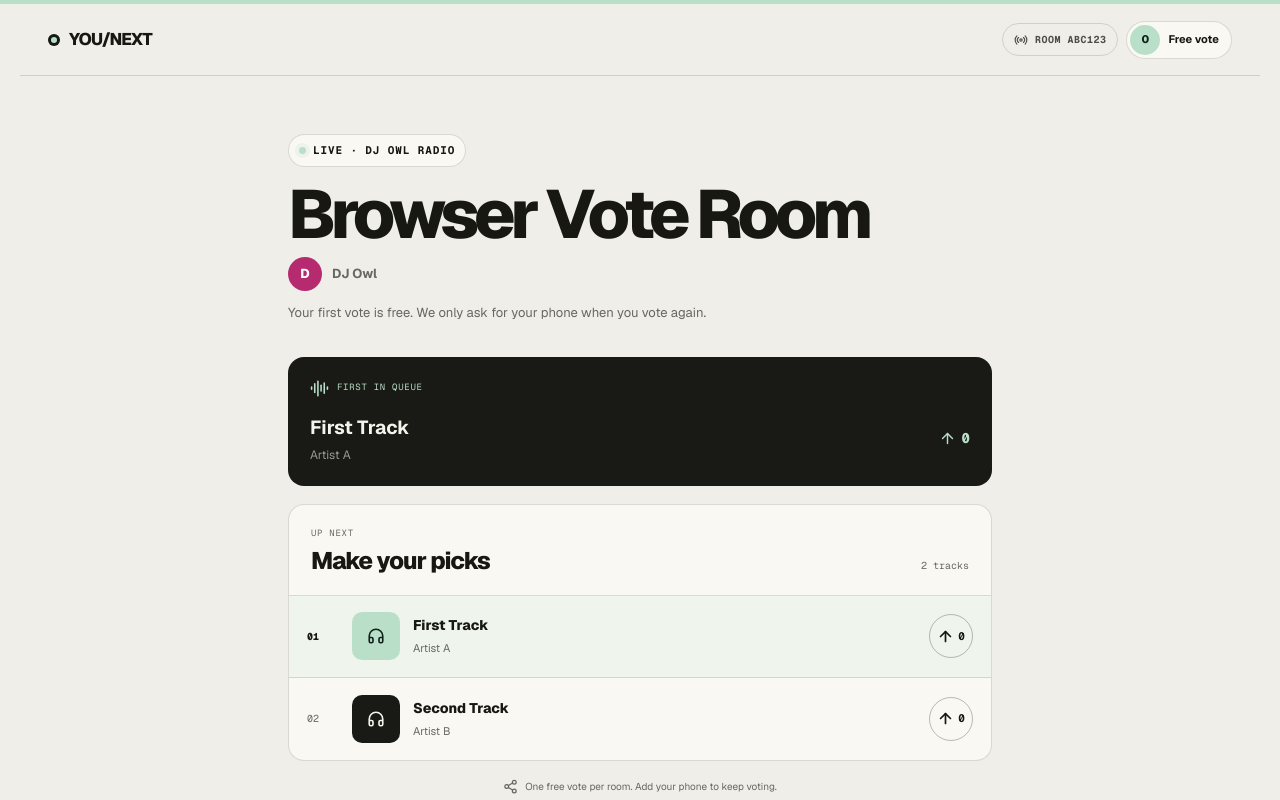
identity onboarding › allows one free vote, then logs in before applying the next vote
This screenshot has width=1280, height=800.
Check: the heading "Browser Vote Room" is shown, box [288,182,868,245]
Check: the text "Room ABC123" is shown, box [1002,23,1118,56]
Click the button named "vote for first track, 0 votes": (951, 636) [929,614,973,658]
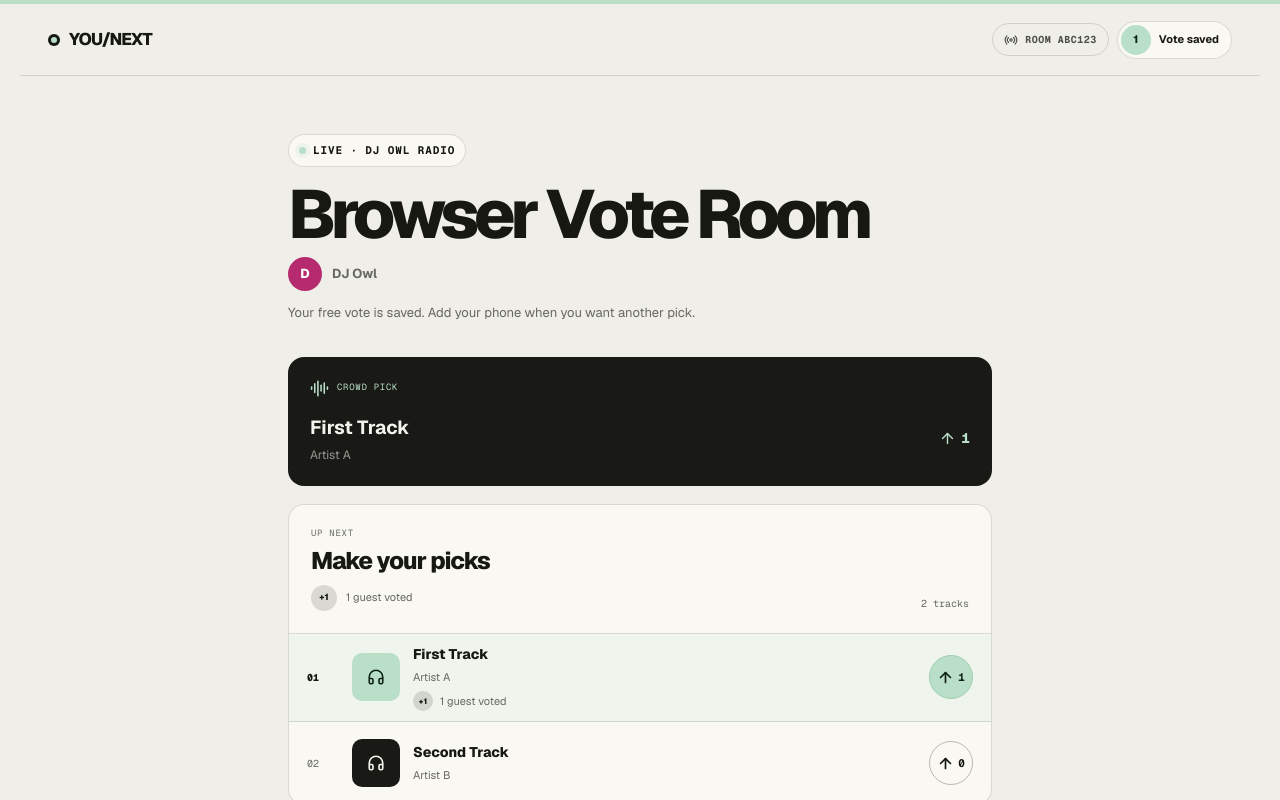
Check: the text "Vote saved" is shown, box [1159,31,1228,48]
Check: the button named "vote saved for first track" is disabled, box [929,656,973,700]
Click the button named "vote for second track, 0 votes": (951, 763) [929,741,973,785]
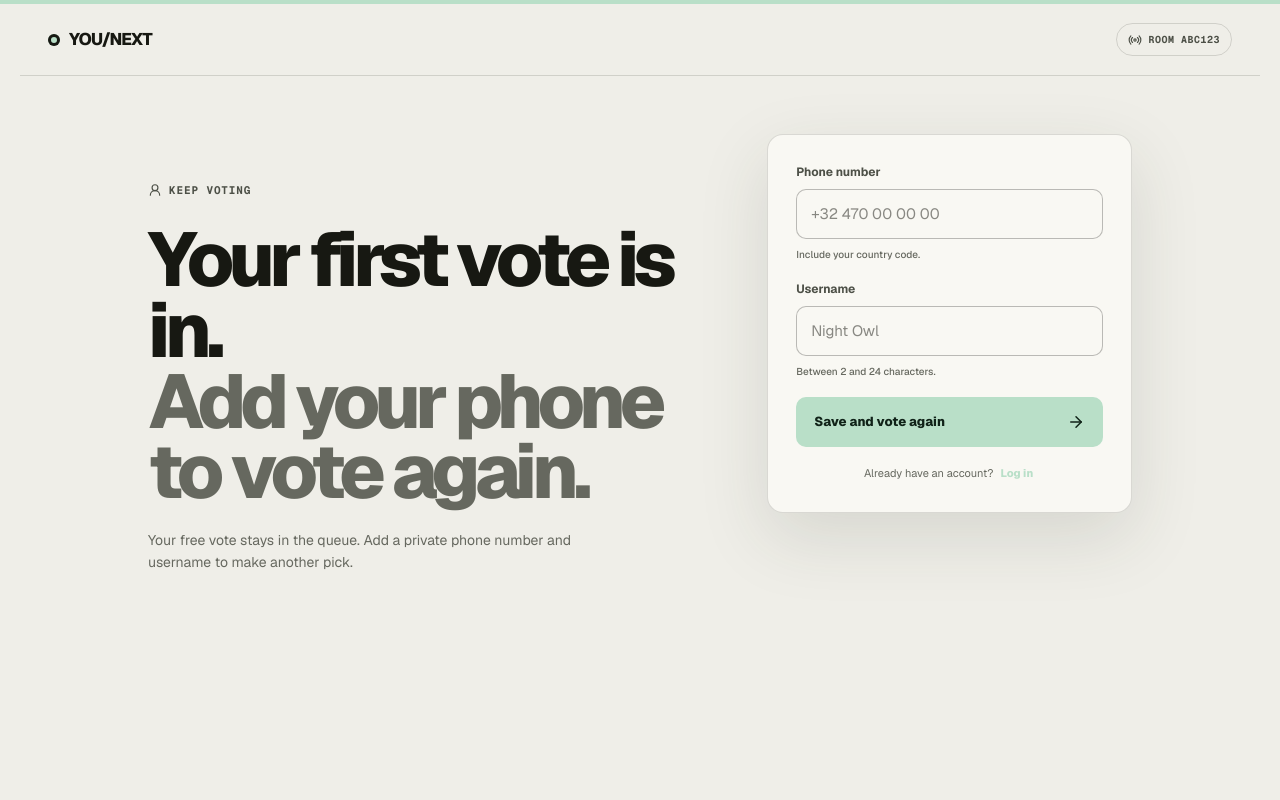
Check: the heading "Your first vote is in." is shown, box [148,210,672,379]
Check: the text "Add your phone to vote again." is shown, box [148,366,695,507]
Click the button "Log in": (1017, 473) [998,463,1035,484]
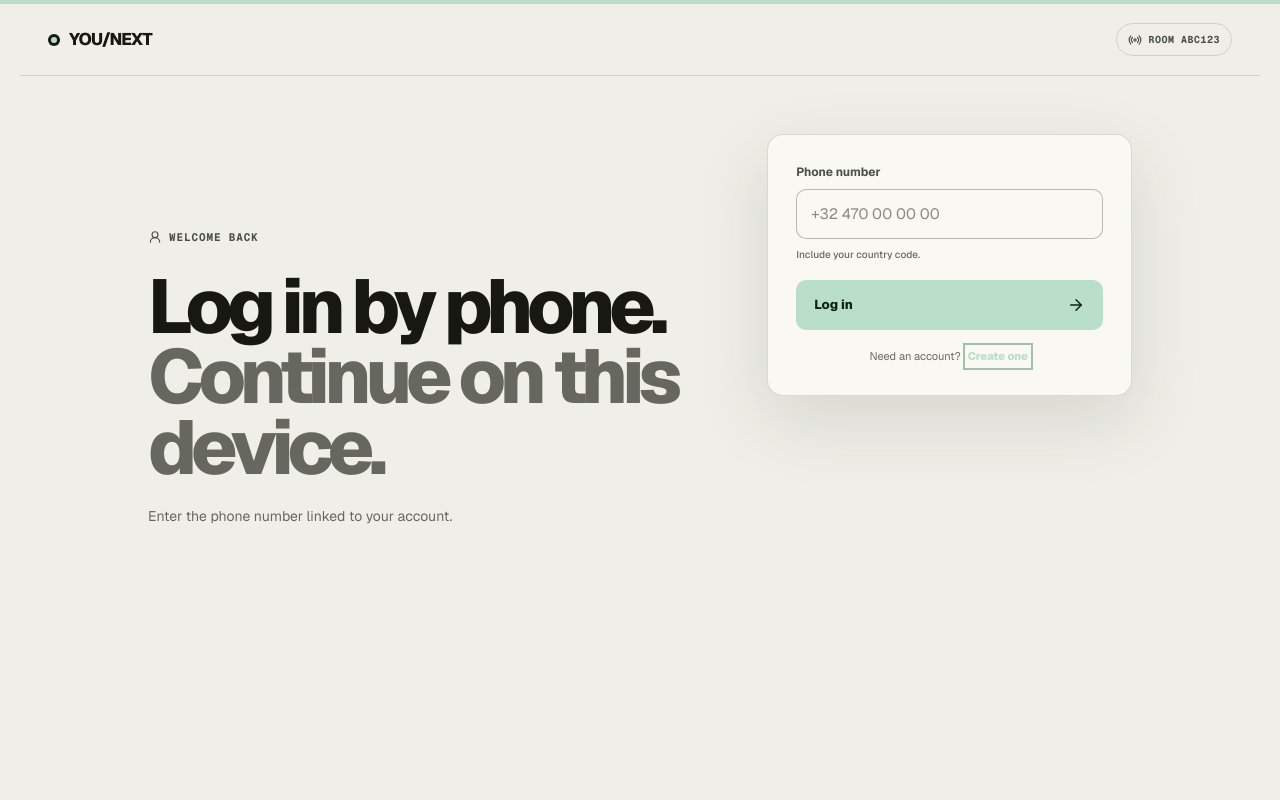
In the field labelled "Phone number Include your country code.": (950, 214) [796,189,1103,239], type "+32470000000"
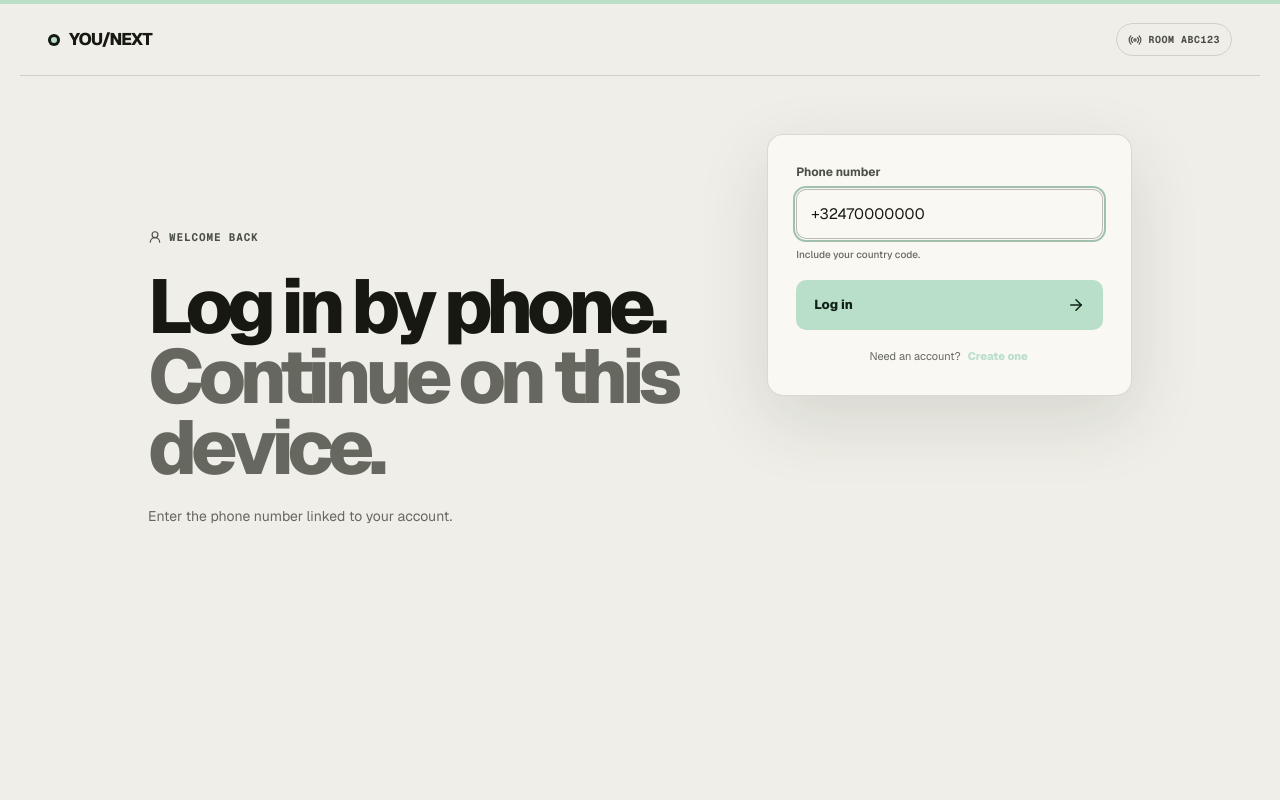
Click the button "Log in": (834, 305) [796,280,1103,330]
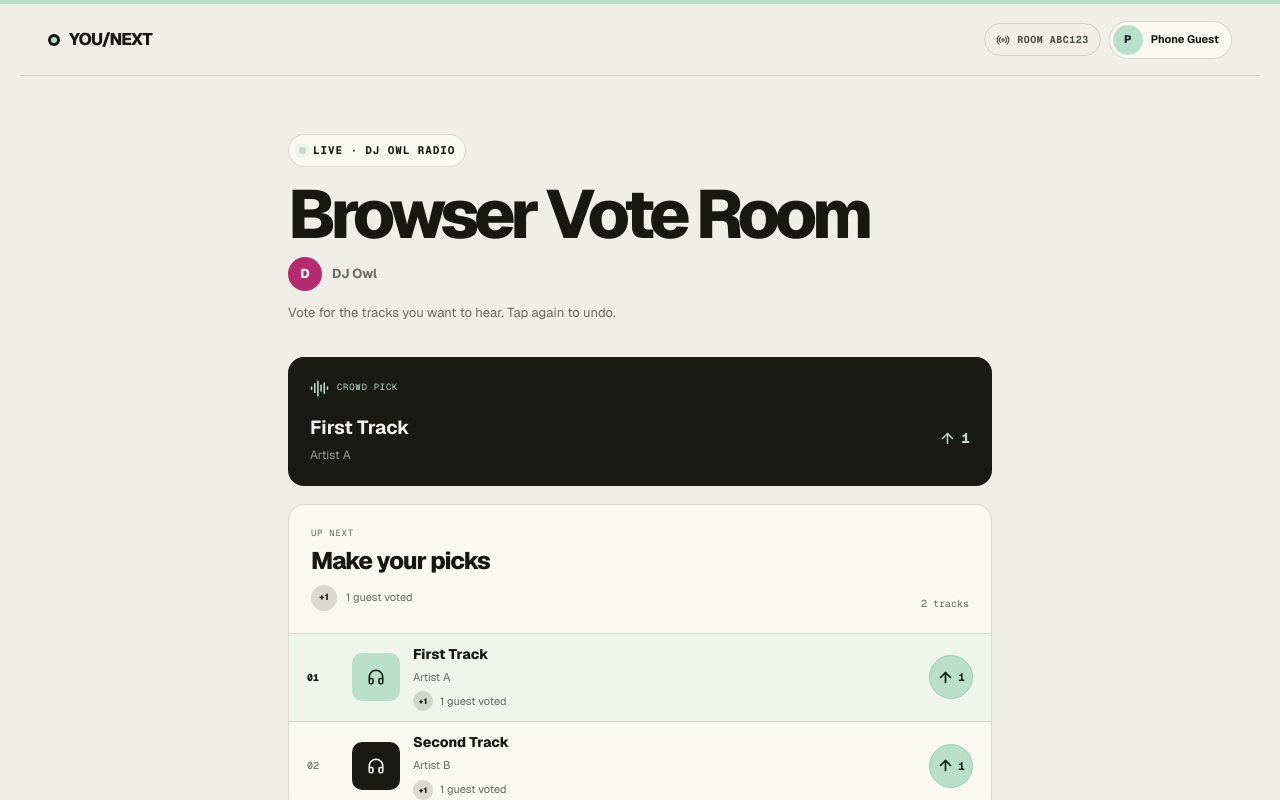
Check: the text "Phone Guest" is shown, box [1151,31,1228,48]
